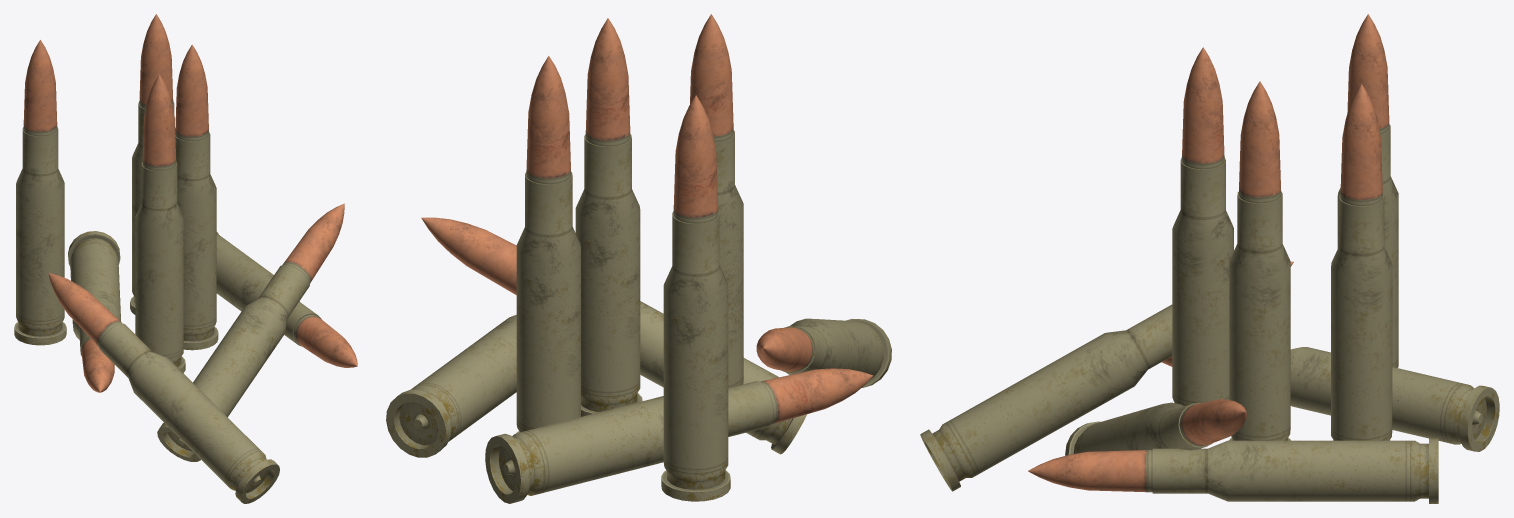
The model's file is Bullet Set.fbx.
3 views of the same model, side by side, from view 1: azimuth 30°, elevation 25°; view 2: azimuth 150°, elevation 25°; view 3: azimuth 270°, elevation 25° (orthographic). The views are drawn at different scales.
Parts seen in each view (by area): view 1: Threebullets.008; view 2: Threebullets.008; view 3: Threebullets.008.
Boxes of the visible parts, bbox=[...] form: Threebullets.008: bbox=[14, 14, 357, 503]; Threebullets.008: bbox=[386, 14, 891, 503]; Threebullets.008: bbox=[920, 14, 1499, 503].
Size of the model in its own units: 221 by 256 by 301.
